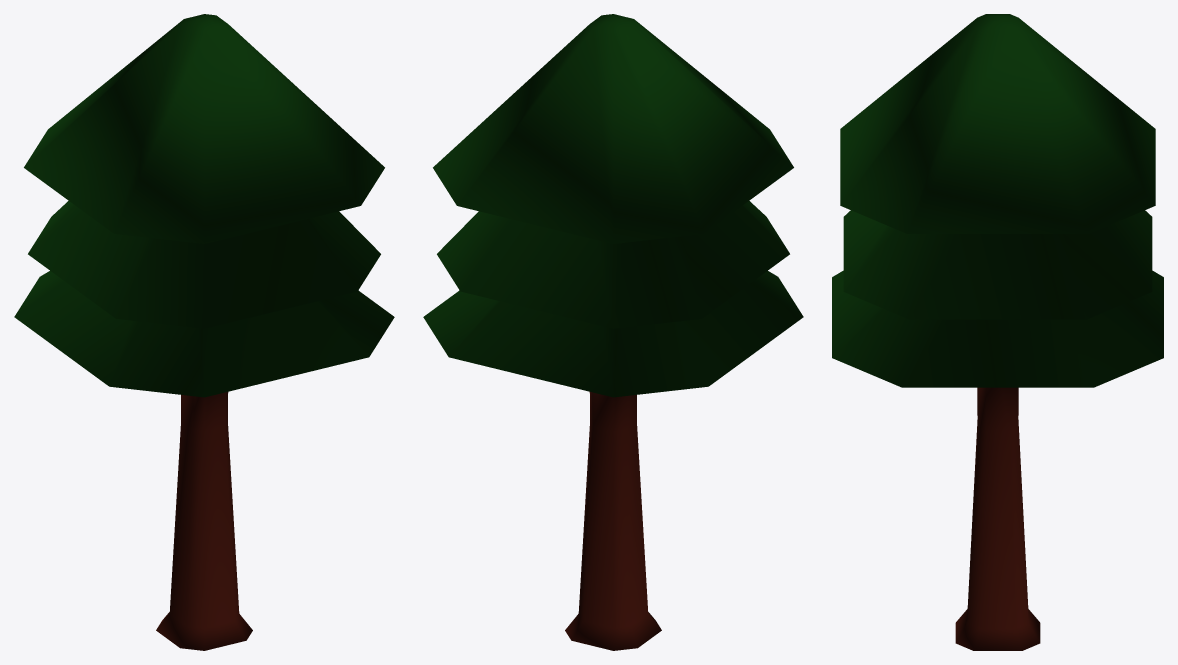
File: treeBig.obj
The picture shows the model from 3 angles, left to right: view 1: azimuth 30°, elevation 25°; view 2: azimuth 150°, elevation 25°; view 3: azimuth 270°, elevation 25°; orthographic projection.
Parts seen in each view (by area): view 1: Tree_Cube; view 2: Tree_Cube; view 3: Tree_Cube.
Boxes of the visible parts, left/top/right/bottom form: Tree_Cube: left=14, top=14, right=394, bottom=650; Tree_Cube: left=423, top=14, right=803, bottom=650; Tree_Cube: left=832, top=14, right=1163, bottom=650.
Size of the model in its own units: 5.85 by 11.94 by 5.85.
